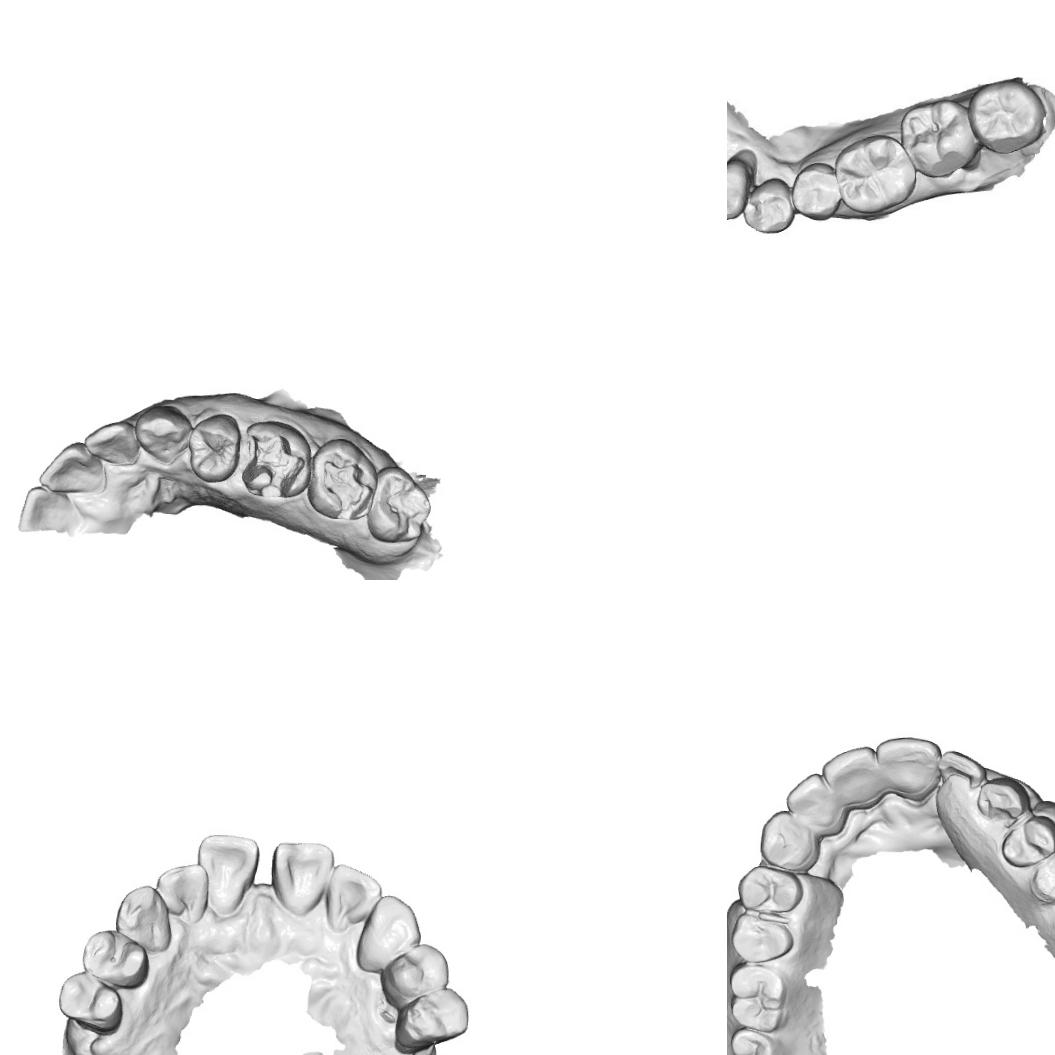canine: (353, 892, 425, 974), (111, 882, 174, 954), (133, 403, 194, 465), (756, 807, 816, 870), (976, 773, 1032, 823), (727, 157, 749, 224)
incisor: (193, 832, 261, 917), (266, 838, 336, 918), (318, 861, 386, 934), (870, 733, 941, 798), (38, 440, 109, 495), (782, 768, 843, 832), (817, 742, 882, 802), (152, 860, 209, 922), (17, 484, 81, 534), (82, 418, 142, 466), (934, 746, 984, 790)
inlay: (243, 434, 306, 498), (318, 455, 375, 520)
molar: (833, 132, 914, 221), (893, 98, 977, 183), (965, 78, 1046, 154), (364, 464, 433, 545), (727, 958, 793, 1034), (727, 1025, 793, 1055)
premolar: (392, 982, 472, 1054), (377, 939, 452, 1008), (80, 927, 152, 991), (55, 970, 125, 1034), (727, 910, 799, 967), (186, 411, 242, 484), (734, 863, 805, 919), (997, 811, 1055, 870), (738, 178, 793, 236), (792, 163, 844, 222), (1029, 846, 1055, 905)
